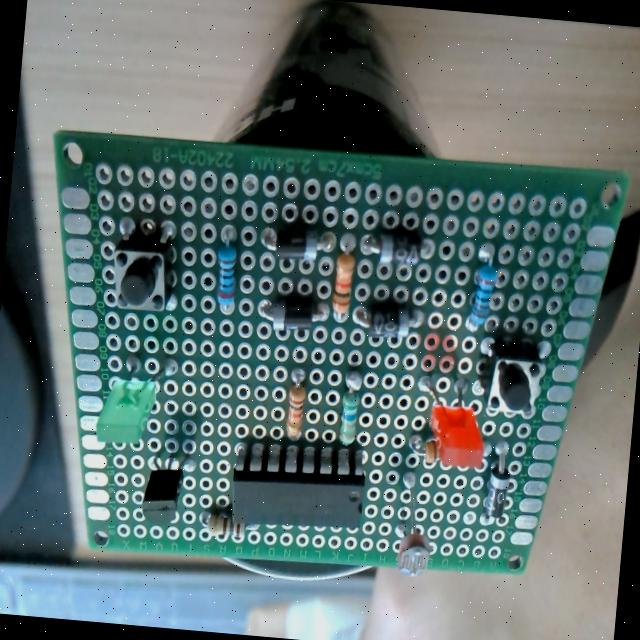IC: (228, 442, 370, 537)
cds: (392, 476, 438, 580)
diode: (482, 438, 514, 520), (354, 302, 418, 341), (266, 223, 330, 262), (259, 293, 326, 329), (362, 228, 422, 266)
led: (94, 354, 176, 449), (421, 374, 491, 470)
resistor: (276, 367, 314, 442), (334, 367, 368, 449), (464, 264, 498, 334), (212, 238, 240, 307), (330, 252, 355, 319), (205, 512, 247, 542)
switch: (108, 230, 177, 314), (478, 336, 546, 420)
transistor: (139, 458, 184, 526)
